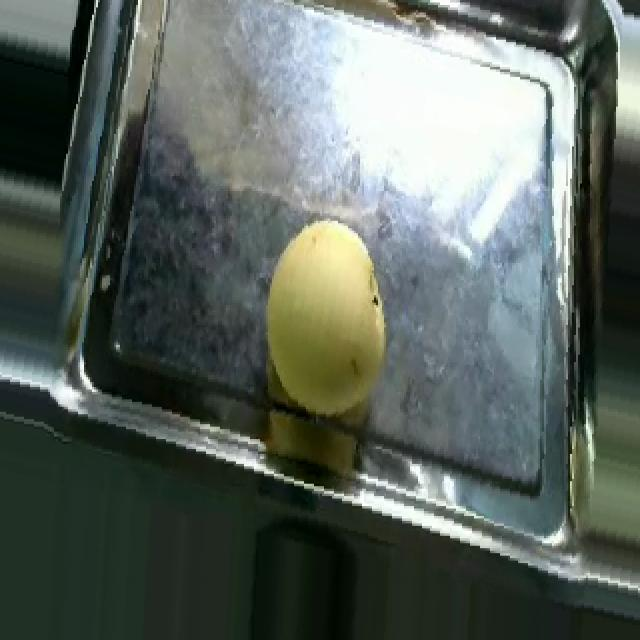Fruit: (228, 204, 414, 446)
